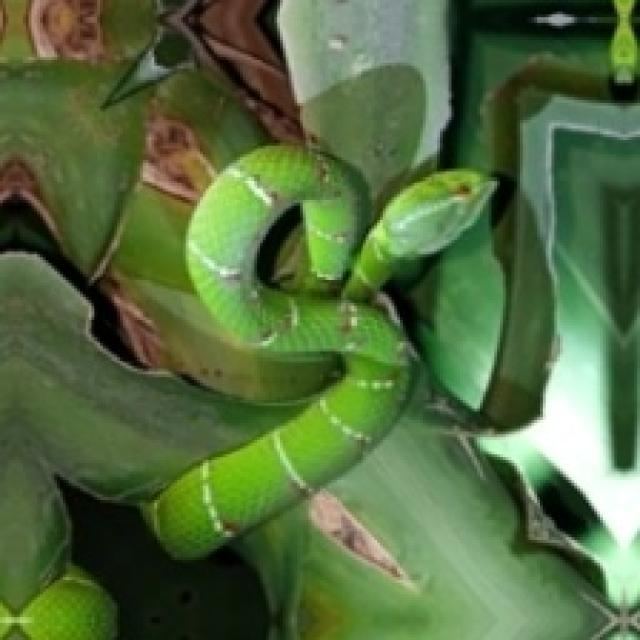north ph temple pitviper: (143, 146, 491, 557), (254, 203, 343, 297)
